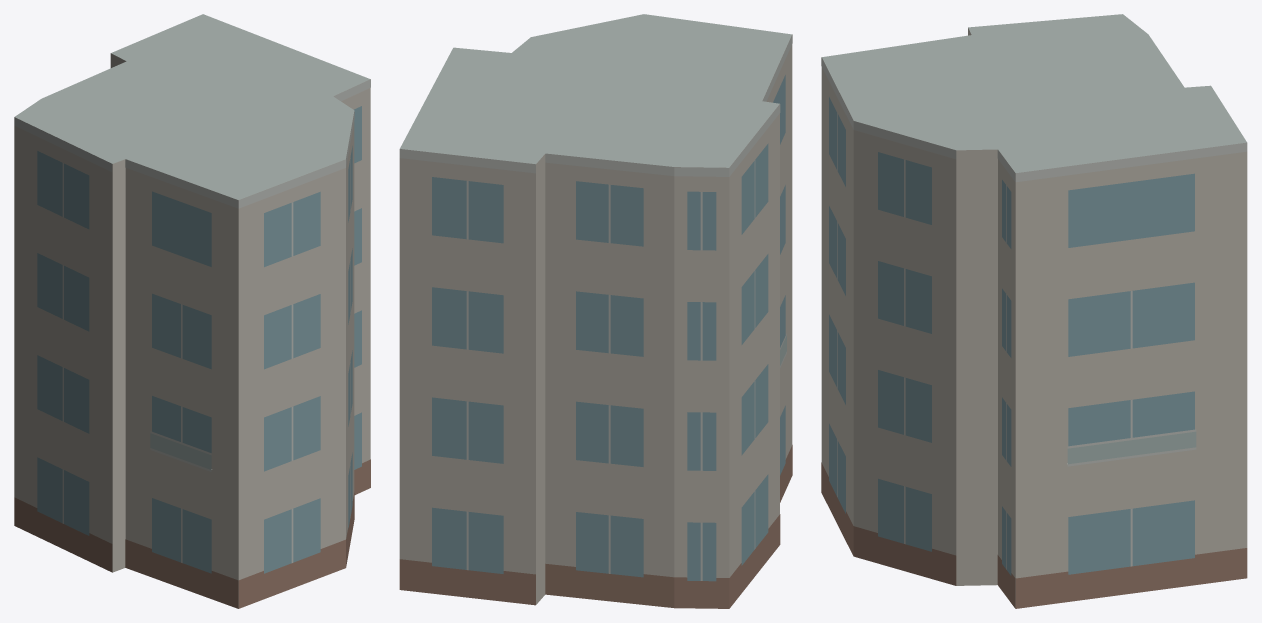
Rendered from survey-upis-32635959.glb.
3 renders of one model, left to right at view 1: azimuth 30°, elevation 25°; view 2: azimuth 150°, elevation 25°; view 3: azimuth 270°, elevation 25°, orthographic. The views are drawn at different scales.
Parts seen in each view (by area): view 1: survey-upis-32635959.tmp; view 2: survey-upis-32635959.tmp; view 3: survey-upis-32635959.tmp.
Part boxes in pixels (x1,y1,x2,y2): survey-upis-32635959.tmp: [14, 14, 370, 608]; survey-upis-32635959.tmp: [399, 14, 792, 608]; survey-upis-32635959.tmp: [821, 14, 1247, 608].
Bounding box in the file's own units: 9.18 × 11.7 × 10.37.
